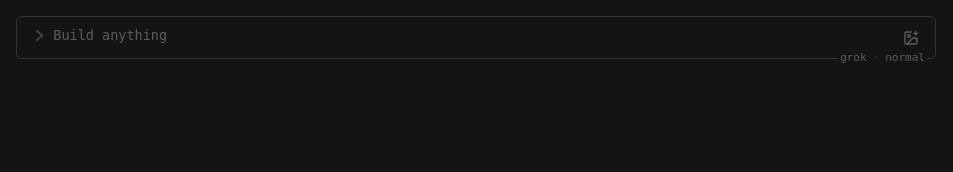
Test: Composer prompt stash caption › Ctrl+S 把 Stashed 断在 composer 右上角边框上
Type "draft to park" into the text box.
click(473, 36); type("draft to park")  # box [53, 25, 893, 46]
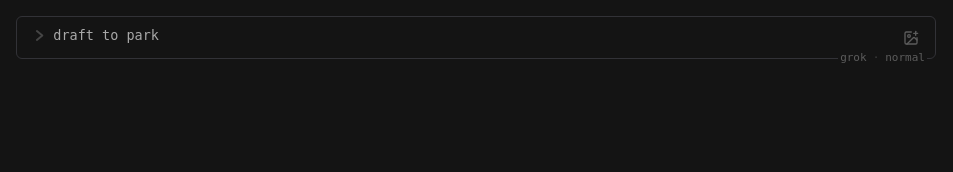
Press s in the text box, box [53, 25, 893, 46]
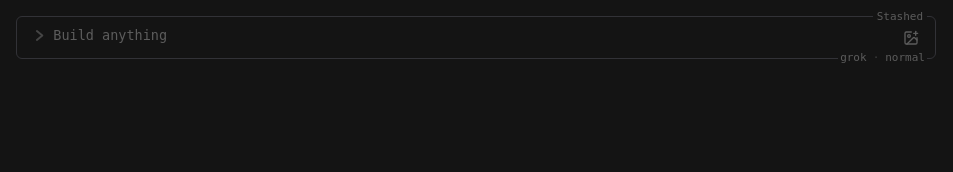
Check: the text with test id "prompt-stash" reads "Stashed", box [877, 12, 923, 23]
Check: the text box is empty, box [53, 25, 893, 46]
